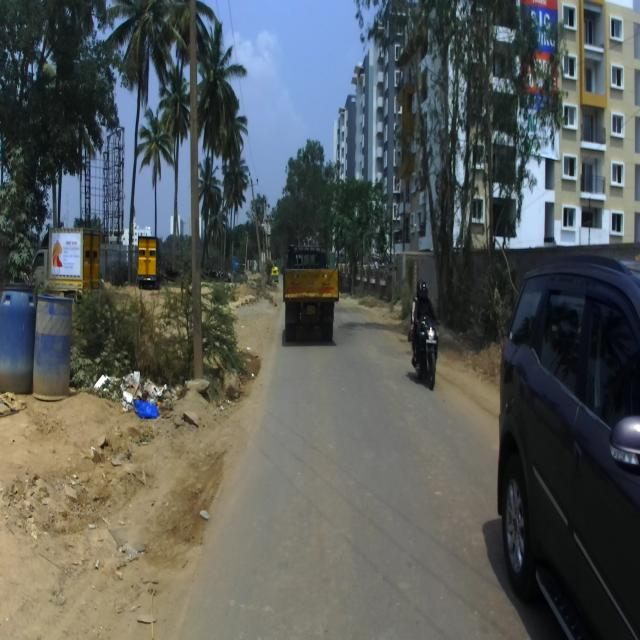barrier ahead at: (0, 282, 74, 401)
car ahead at: (495, 252, 640, 640)
motorcycle ahead at: (408, 313, 440, 385)
truck ahead at: (277, 245, 340, 345)
